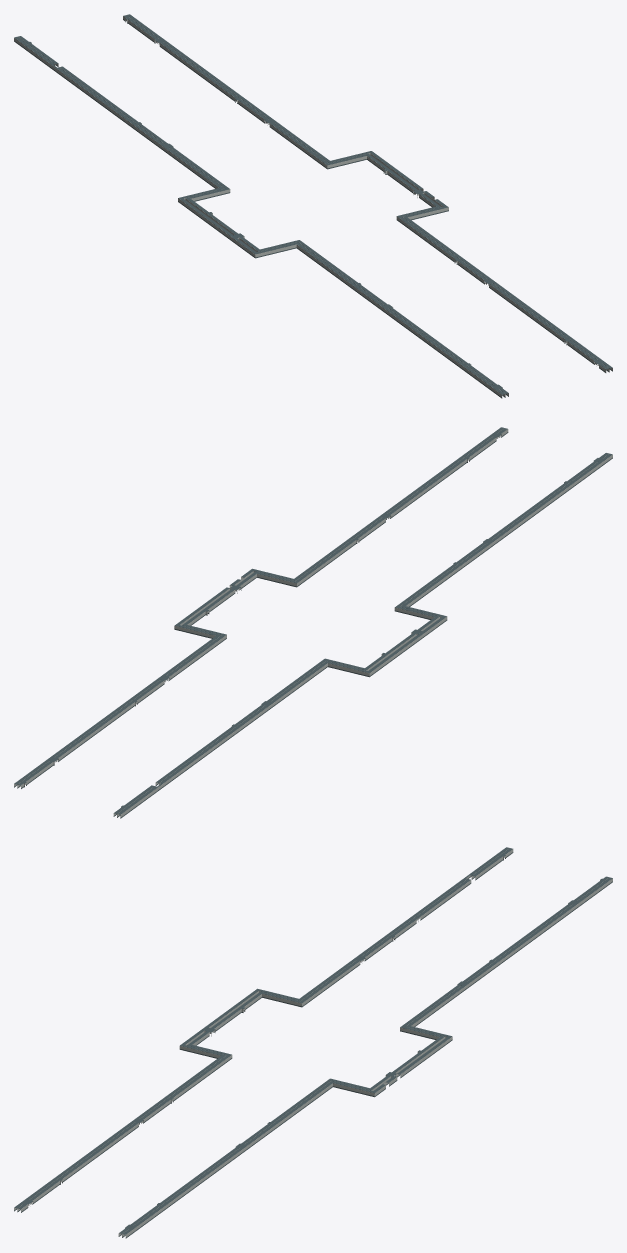
The model's file is AST-MED-G3-007.glb.
3 views of the same model, one above another, from view 1: azimuth 30°, elevation 25°; view 2: azimuth 150°, elevation 25°; view 3: azimuth 330°, elevation 25° (orthographic).
Size of the model in its own units: 220 by 4.34 by 960.
4 materials, 4 textured.
